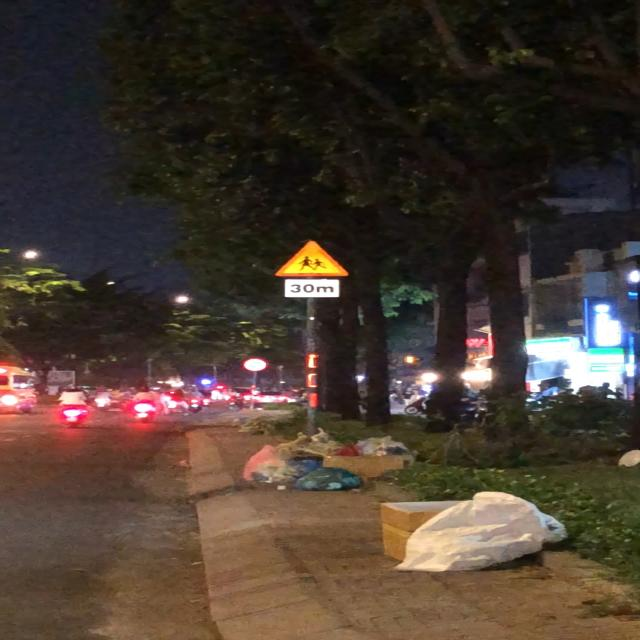Bien bao tre em: (273, 238, 350, 280)
